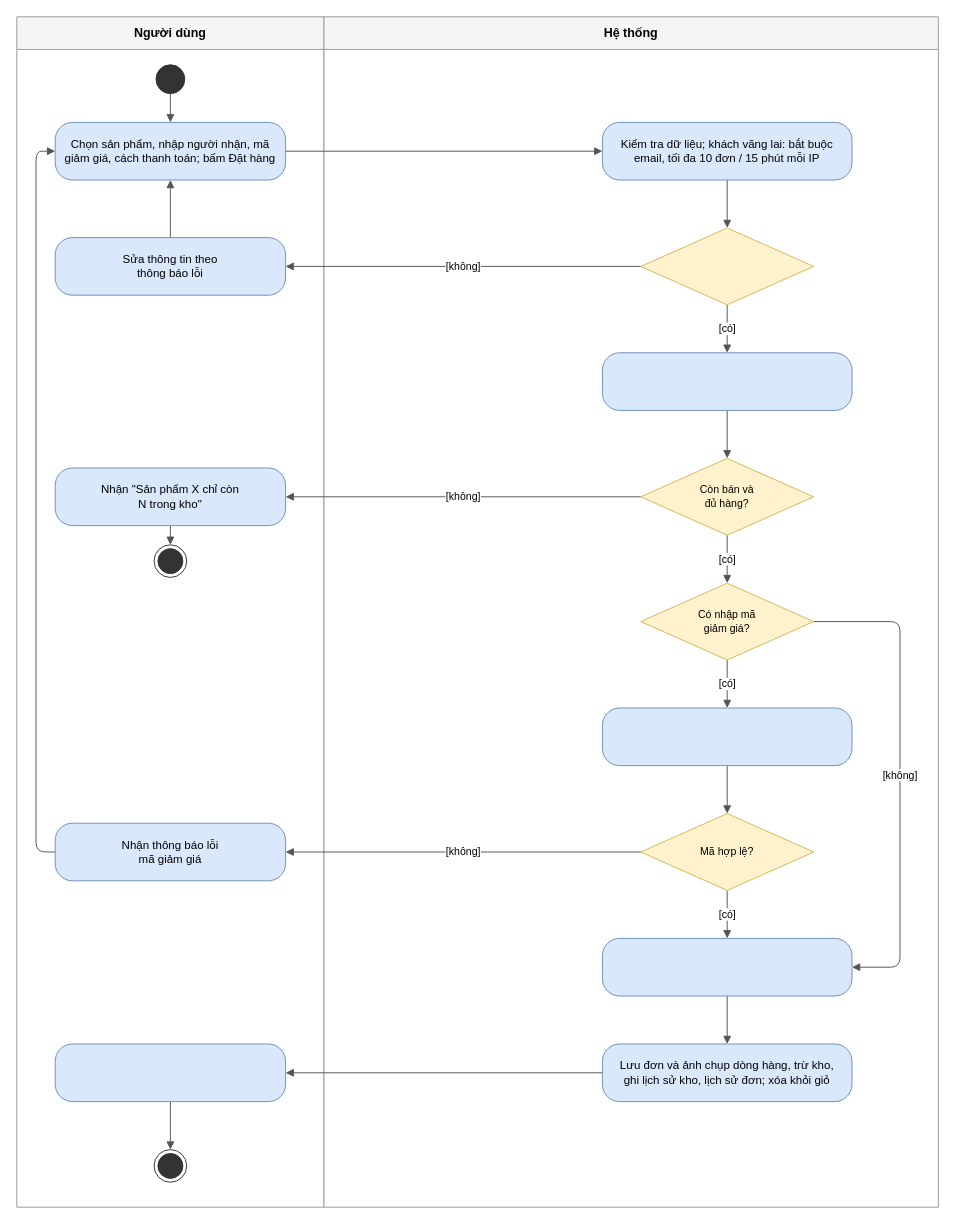
This 955x1224 diagram has some shape labels left out. Each missing label, with the centre of its shape:
Hợp lệ?: (727,266)
Khóa các biến thể theo thứ tự id, đọc giá và tồn kho hiện tại: (726,381)
Khóa mã; kiểm khung giờ, đơn tối thiểu, lượt tổng và lượt của khách: (726,736)
Nhận mã đơn hàng, trạng thái chờ xác nhận: (170,1072)
Tính tạm tính − giảm giá + phí ship (miễn phí khi đạt ngưỡng): (726,966)
